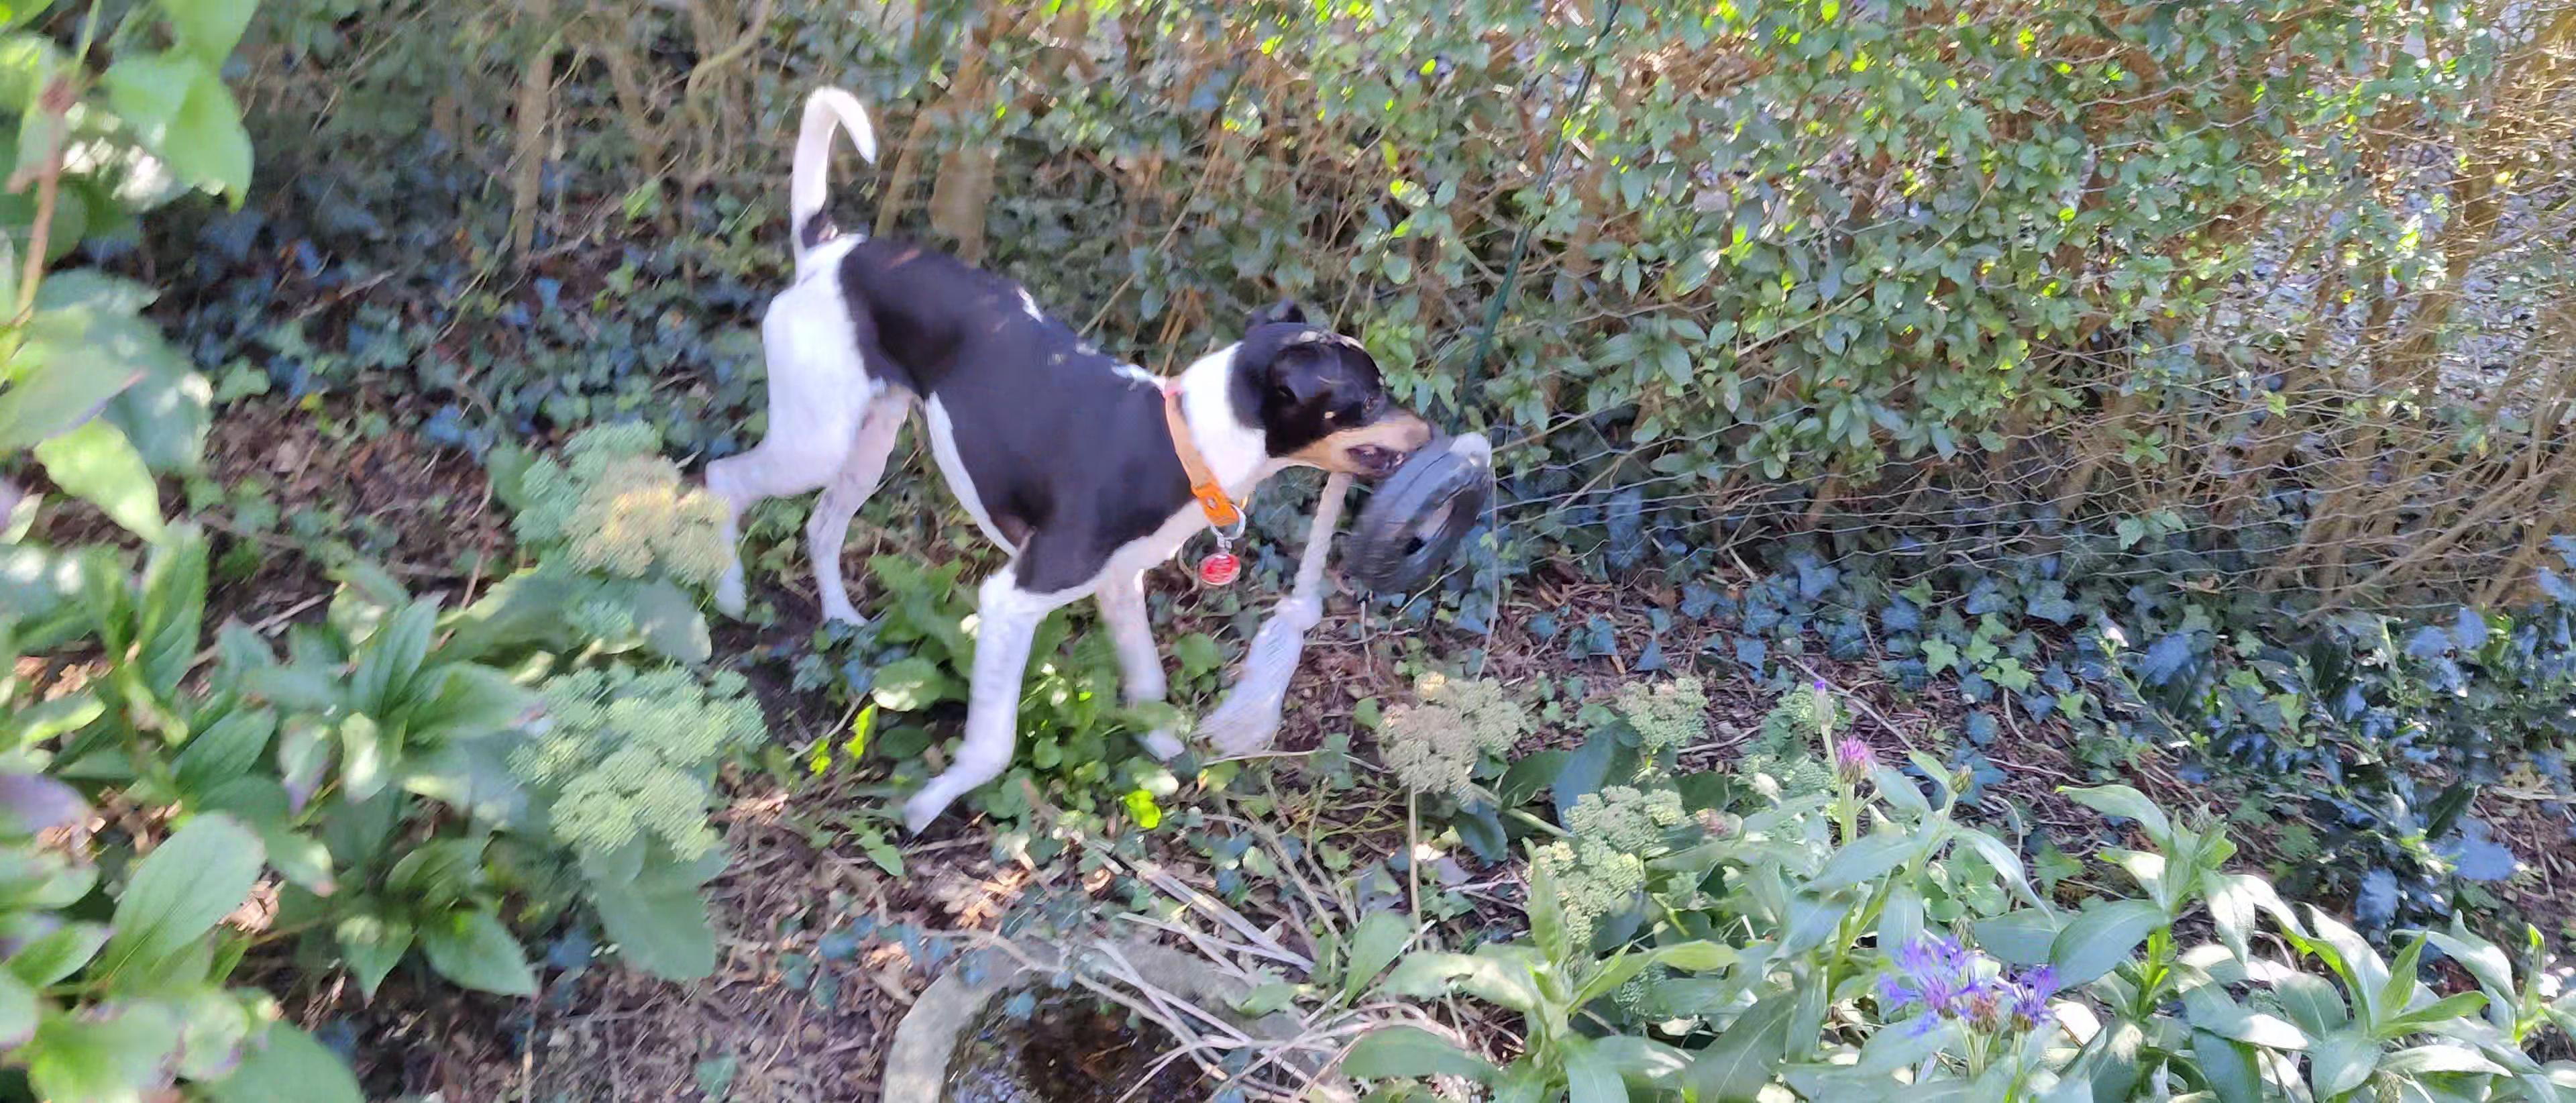Dog: (695, 84, 1441, 843)
